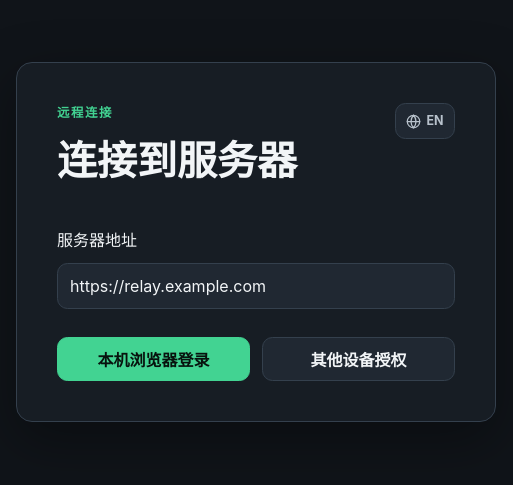
Test: NativeConnectView › stays on connect when device authorization cannot prepare the server
What coordinates should you click on to do the following:
click the button "其他设备授权"
I would click on:
 (358, 359)
Its box is [262,337,455,381].
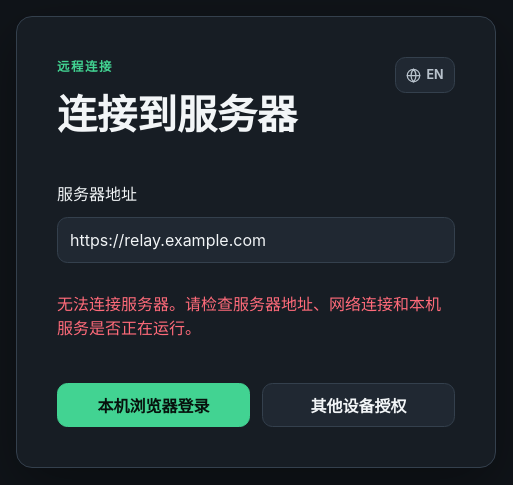
Check: the message "无法连接服务器。请检查服务器地址、网络连接和本机服务是否正在运行。" is shown, box [57,291,455,339]
